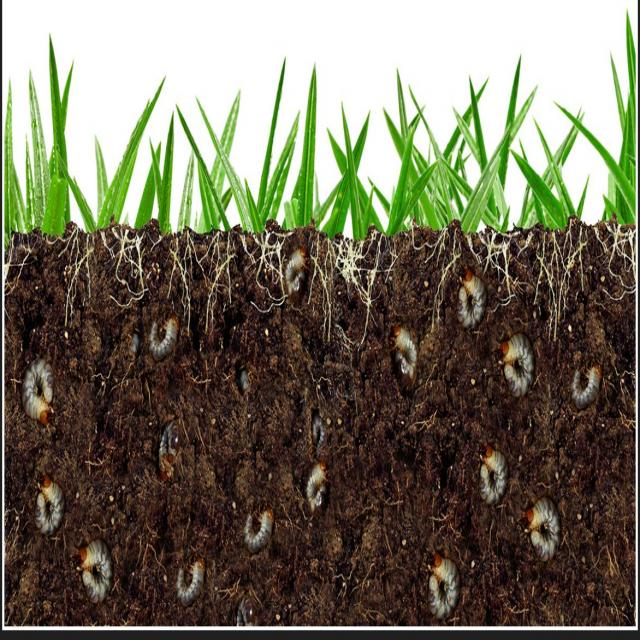Grub-Adult-: (75, 530, 124, 610), (20, 338, 62, 425), (524, 484, 567, 568), (421, 540, 464, 622), (564, 349, 605, 423), (452, 272, 492, 344), (499, 328, 536, 404), (144, 307, 190, 364), (238, 499, 282, 558), (478, 433, 509, 510), (276, 234, 309, 306), (300, 456, 334, 524), (35, 466, 66, 536), (176, 542, 205, 606), (391, 324, 419, 390)
